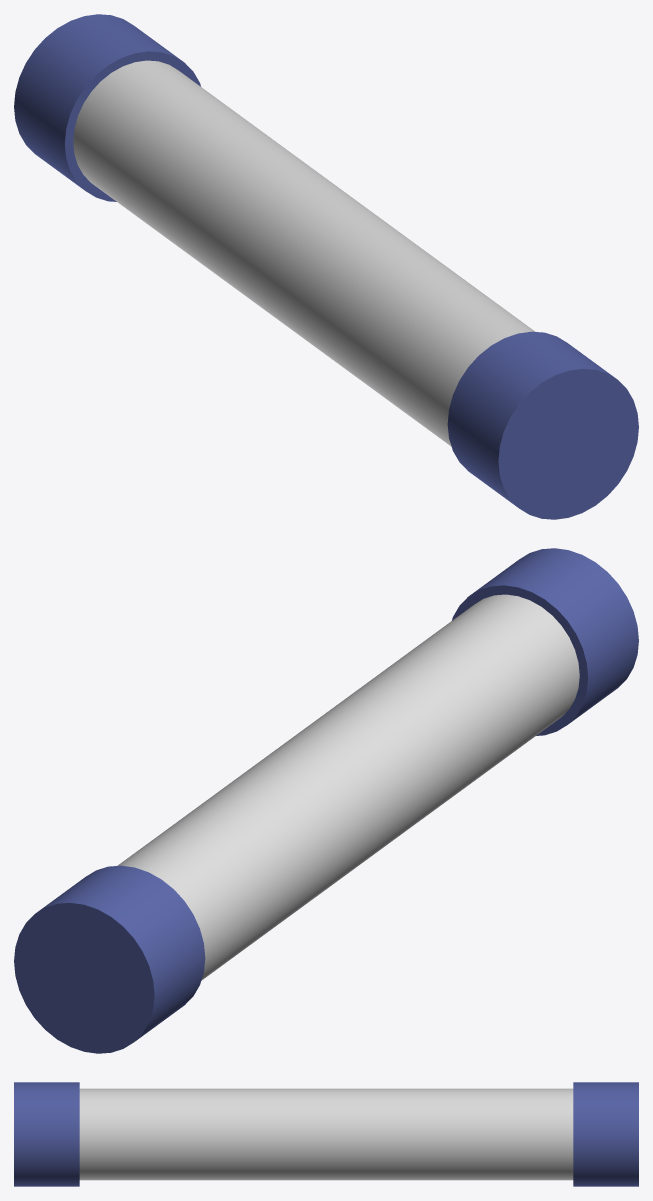
File: 1fuseBlue.fbx
3 renders of one model, top to bottom at view 1: azimuth 30°, elevation 25°; view 2: azimuth 150°, elevation 25°; view 3: azimuth 270°, elevation 25°, orthographic. The views are drawn at different scales.
Visible parts, largest first — view 1: 円柱; view 2: 円柱; view 3: 円柱.
Boxes of the visible parts, x1,y1,x2,y2 form: 円柱: (14, 14, 638, 519); 円柱: (14, 548, 638, 1053); 円柱: (14, 1082, 638, 1186).
Bounding box in the file's own units: 237 × 237 × 1416.
